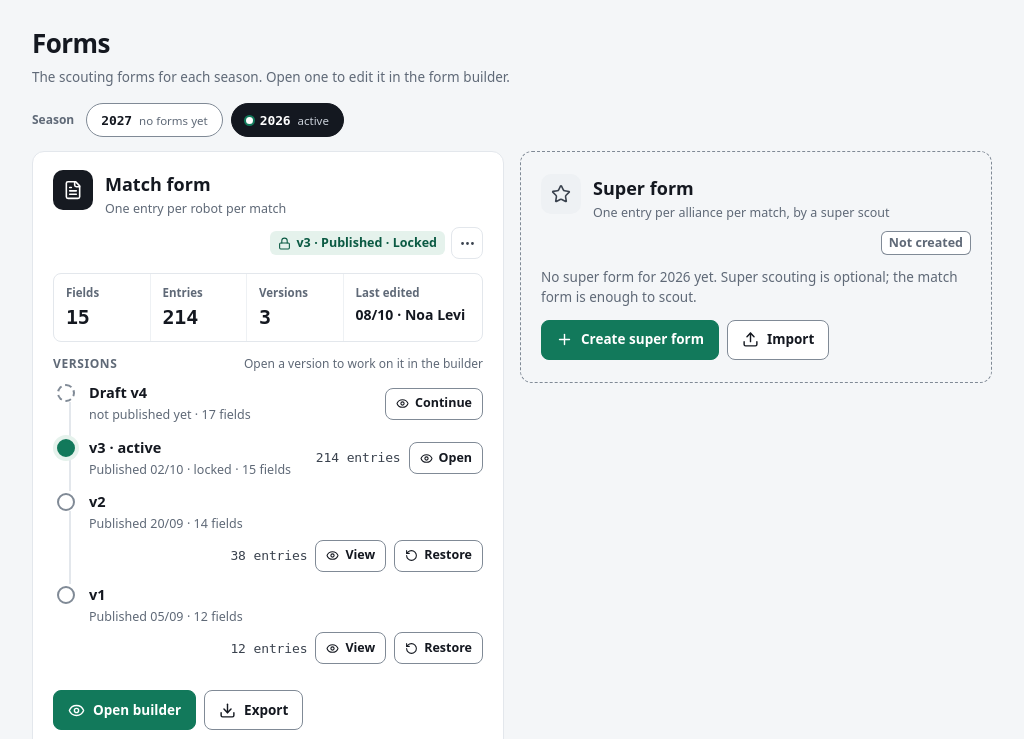
the forms list (/admin/forms, task 1.29) › a restore that went through but whose list did not read again says so, with Try again
Click the button with aria-label "Restore v1" at (439, 648), box top-left (394, 632), bottom-right (483, 664)
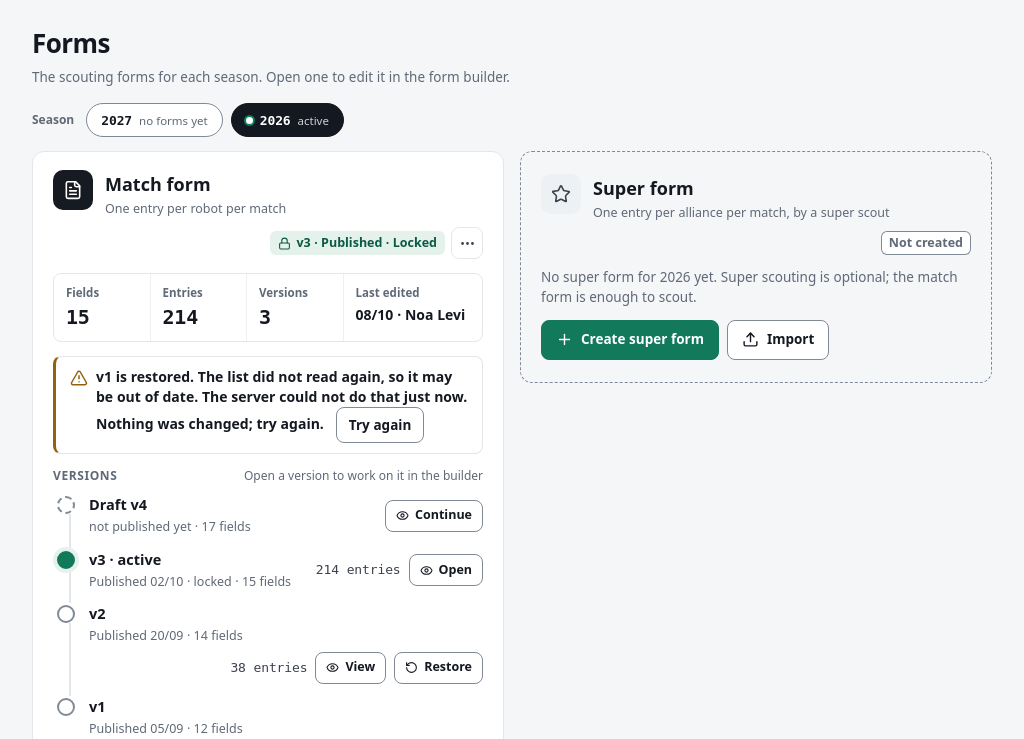
Expected: the message does not show "did not work", top-left (53, 356), bottom-right (483, 454)
Expected: the message shows "v1 is restored.", top-left (96, 367), bottom-right (467, 433)
Expected: the message shows "The list did not read again, so it may be out of date.", top-left (96, 367), bottom-right (467, 433)
Click the button "Try again" at (380, 425), box top-left (336, 407), bottom-right (424, 443)
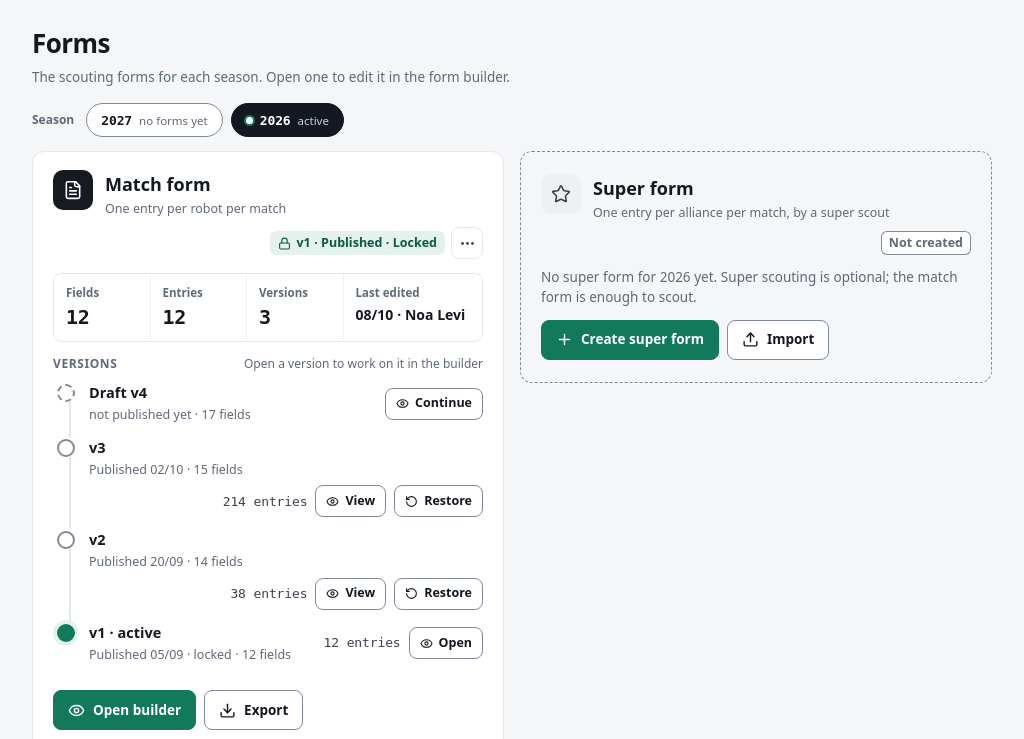
Expected: the message is gone
Expected: the text "v1 · Published · Locked" is shown, top-left (270, 231), bottom-right (445, 255)
